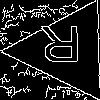R: (40, 25, 83, 72)
